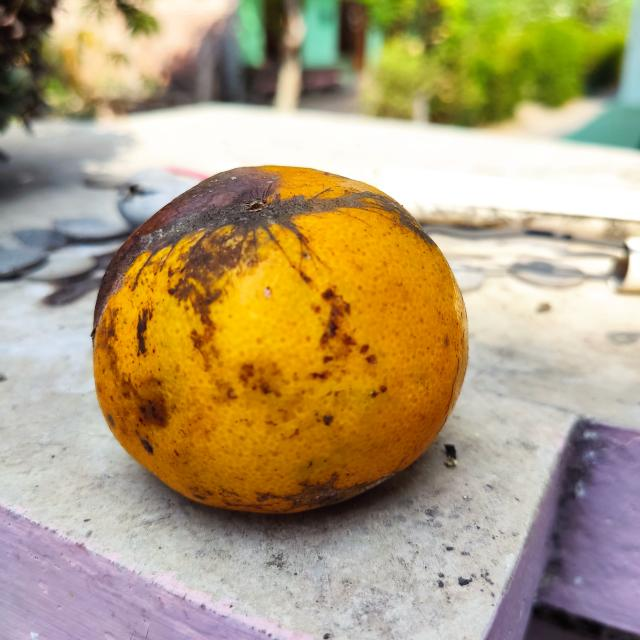orange: (95, 164, 467, 510)
